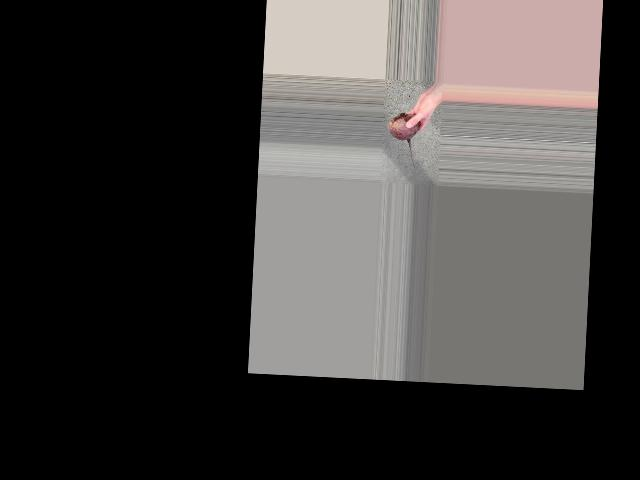beet: (386, 112, 418, 167)
